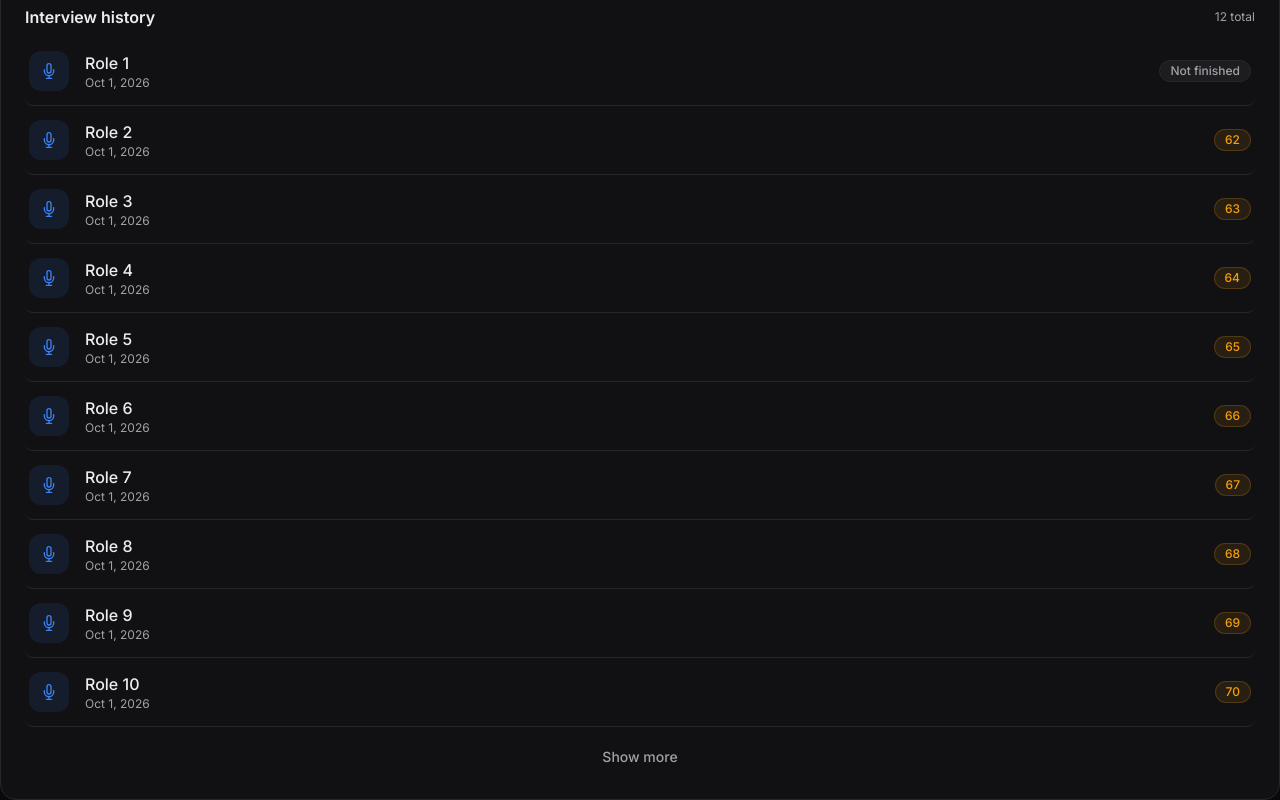
Test case: Candidate dashboard › lists interview history, links completed ones to their report, and pages through it
(page scrolled)
Expected: the heading "Interview history" is shown, top-left (25, 5), bottom-right (155, 29)
Expected: the text "Not finished" is shown, top-left (1159, 60), bottom-right (1251, 82)
Click the button "Show more" at (640, 757), box top-left (590, 739), bottom-right (690, 775)
(page scrolled)
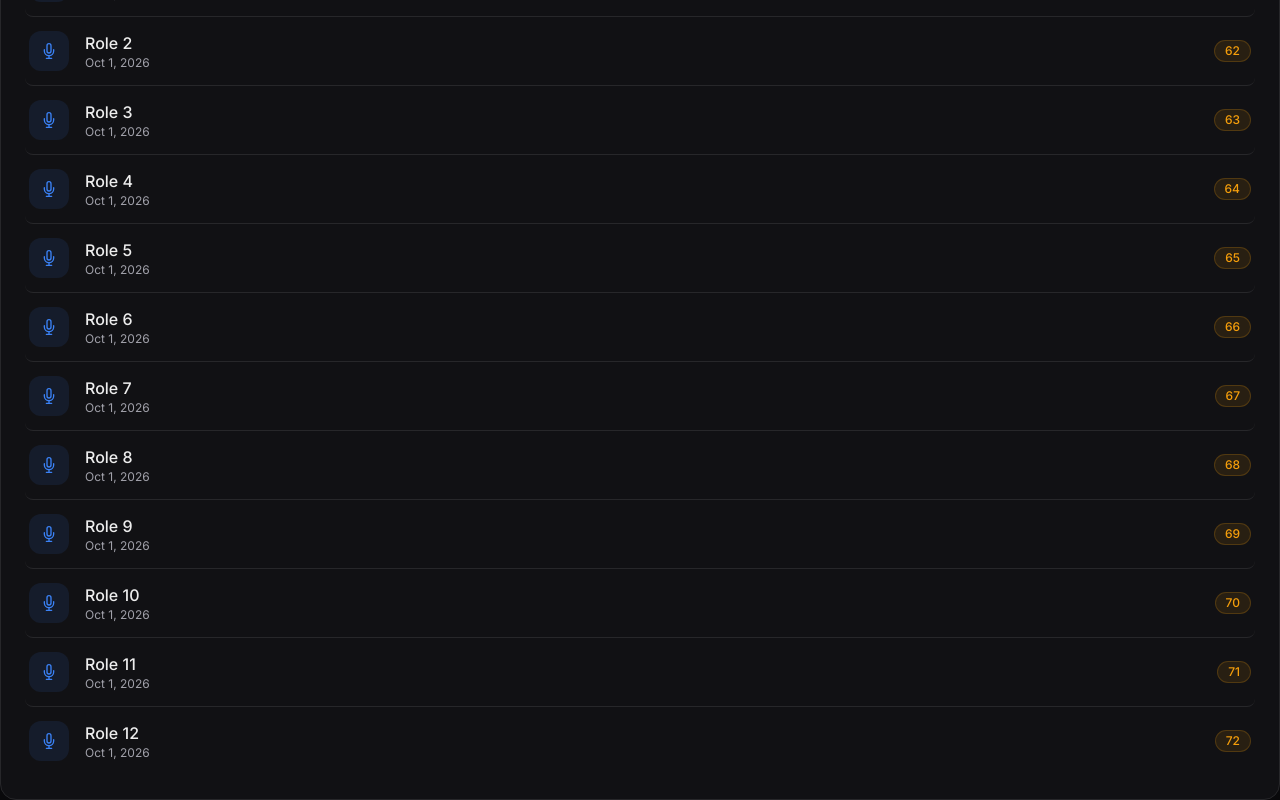
Expected: the text "Role 12" is shown, top-left (85, 723), bottom-right (139, 743)
